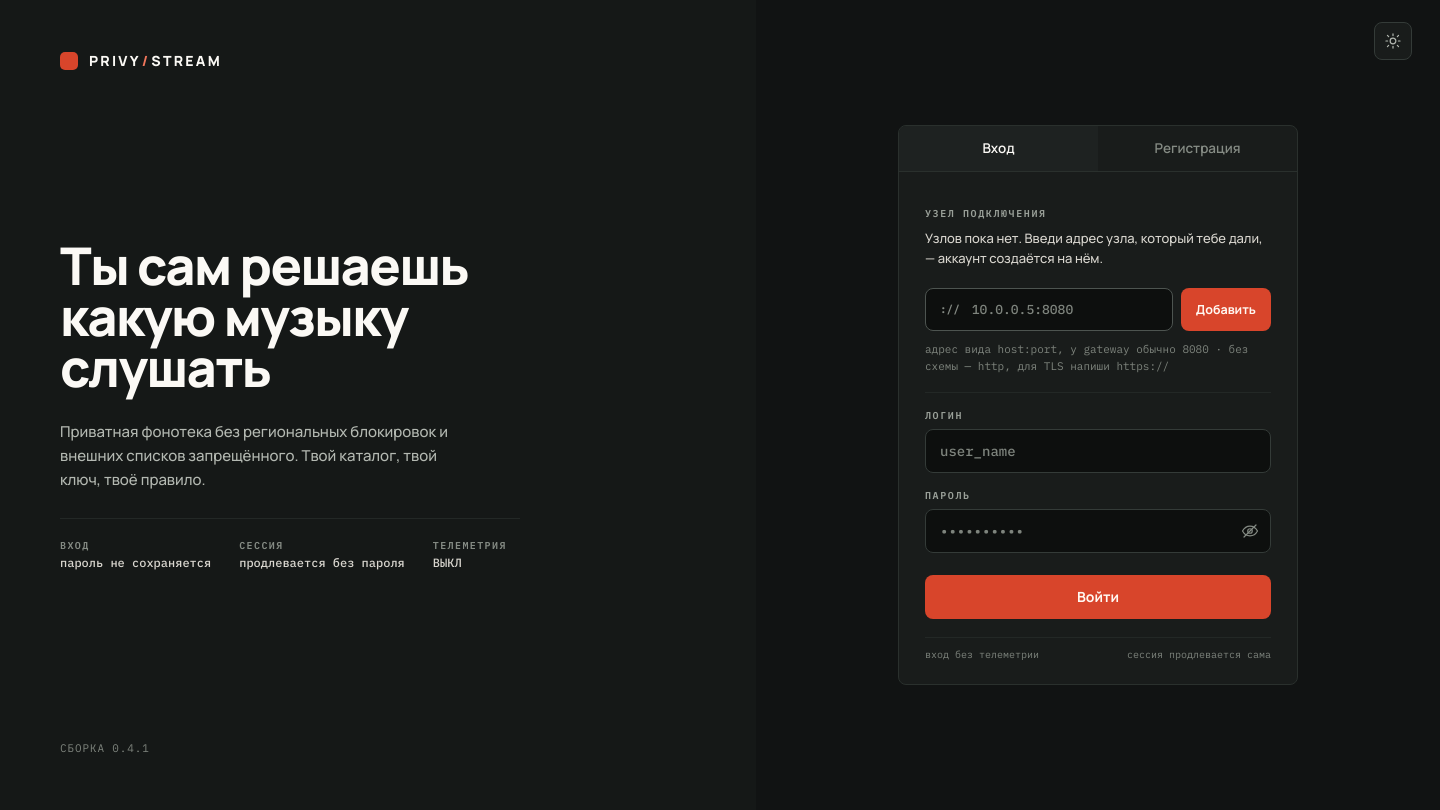
Test: labels the registration submit in plain language
What coordinates should you click on to do the following:
click the tab "Регистрация"
I would click on:
 (1198, 149)
Its box is left=1098, top=126, right=1297, bottom=171.
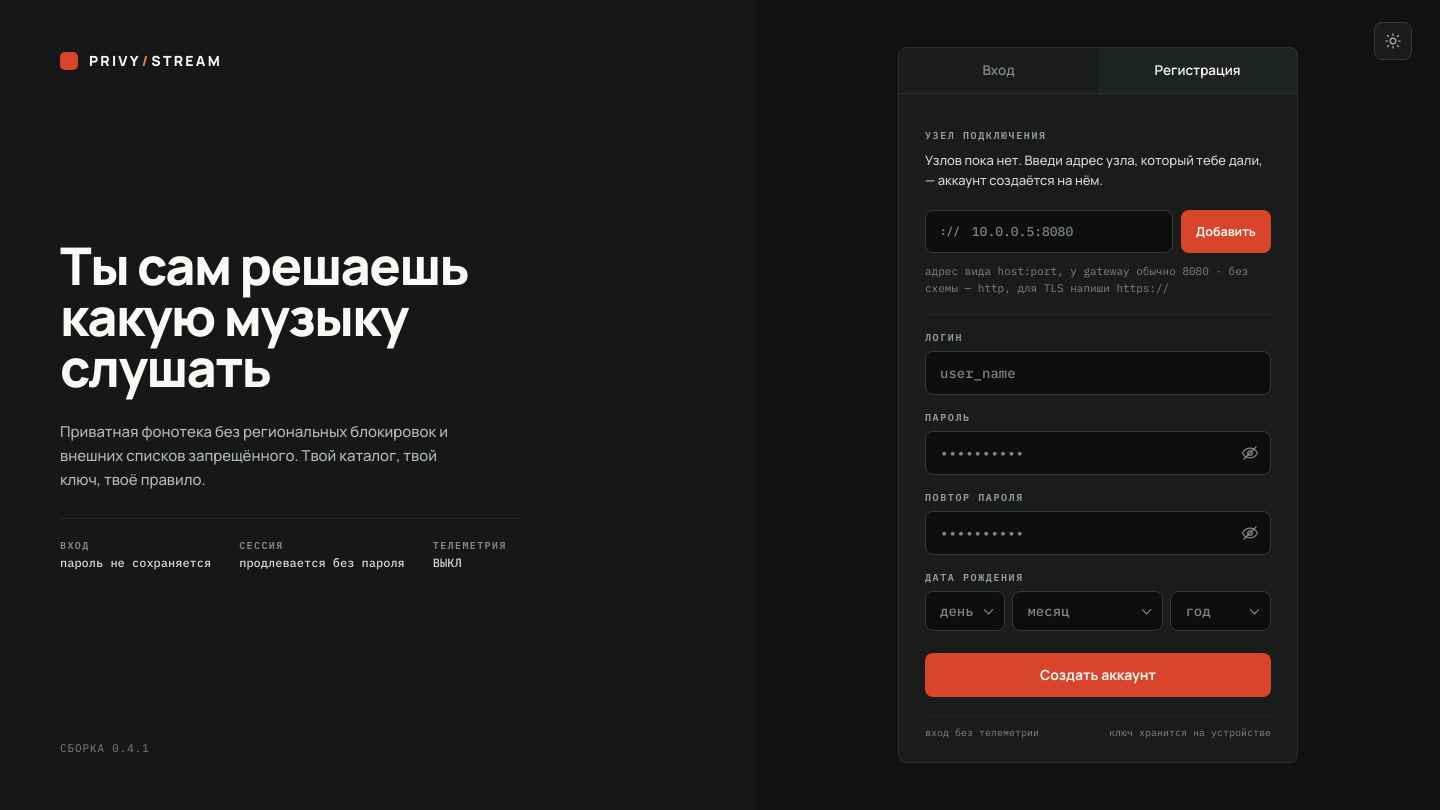
Expected: the button "Создать аккаунт" is shown, left=925, top=653, right=1271, bottom=697
